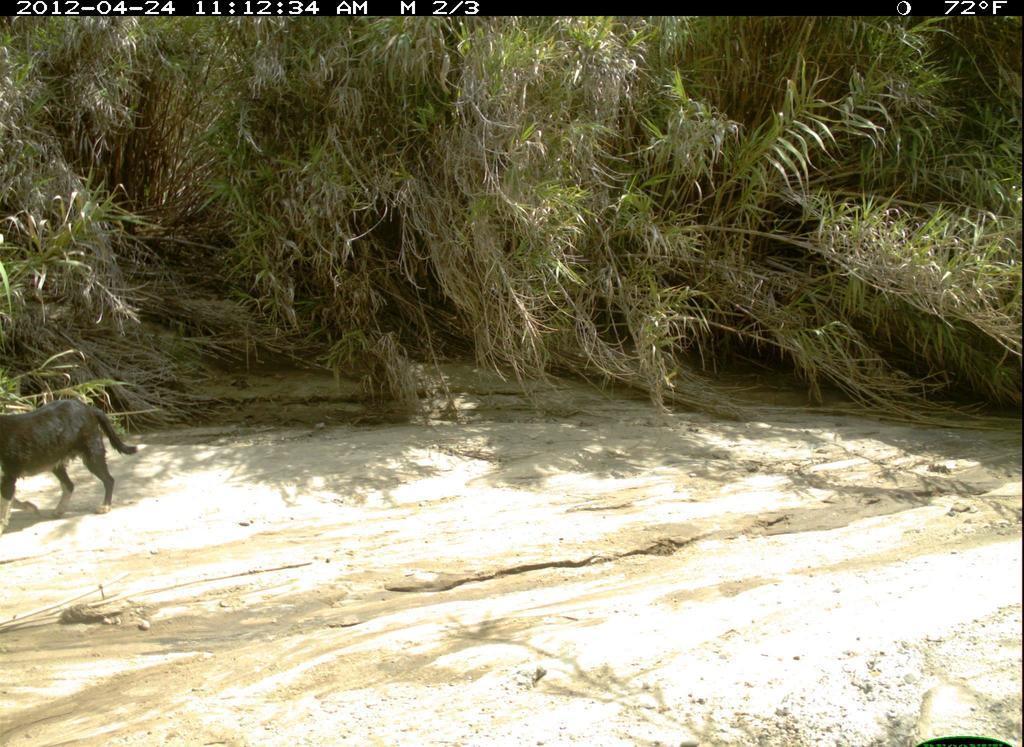dog: (1, 392, 148, 550)
